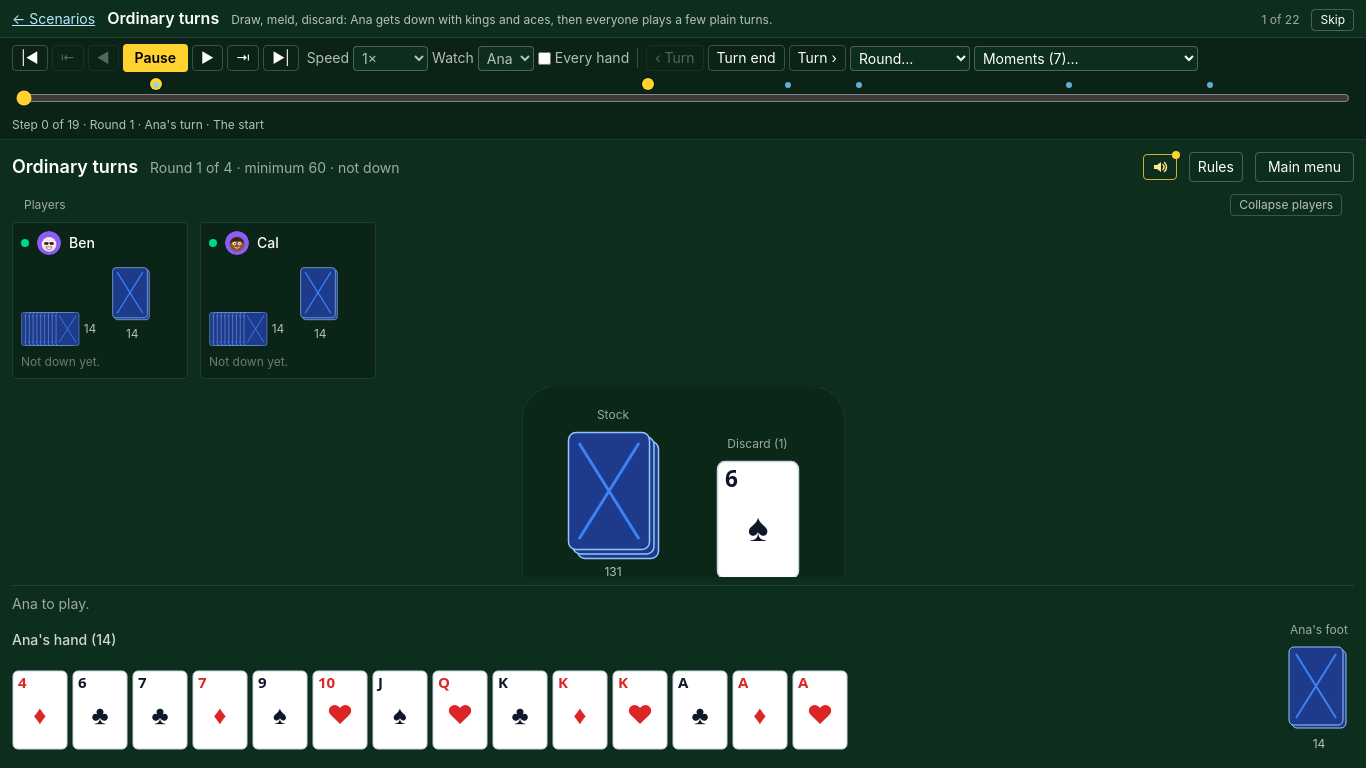
Scenario: the scenario viewer › runs them all, one after another, and can skip ahead
Expected: the text "1 of 22" is shown, [1262, 12, 1299, 28]
What coordinates should you click on to do the following:
click the button "Skip"
I would click on:
 (1333, 20)
Its box is [1312, 9, 1354, 31].
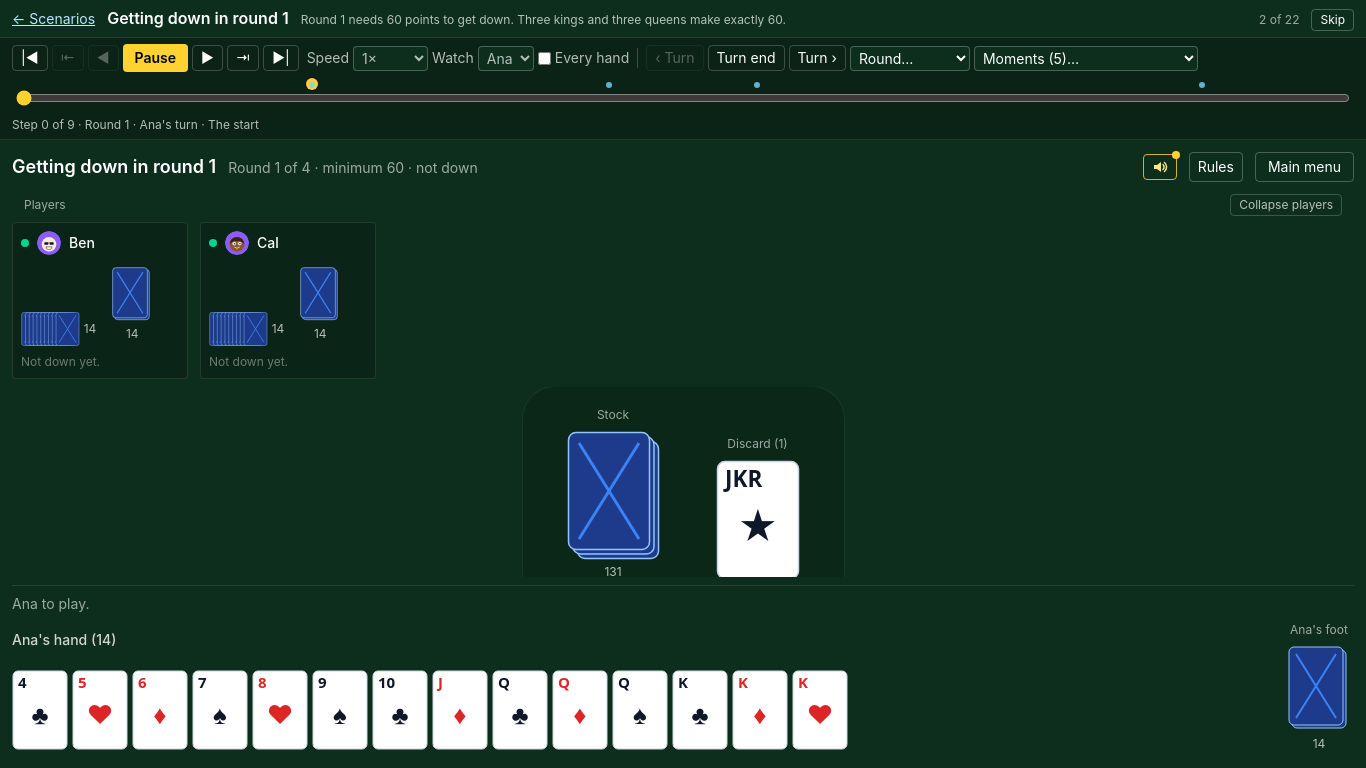
Expected: the button "Pause" is shown, [123, 44, 188, 72]
Result: the text "2 of 22" is shown at [1259, 12, 1300, 28]
